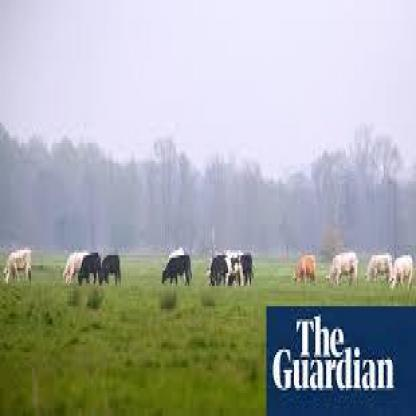cow: (328, 251, 360, 290), (160, 253, 193, 288), (2, 249, 32, 287), (62, 250, 91, 289), (206, 253, 238, 288), (364, 253, 394, 286), (77, 253, 103, 288), (97, 252, 122, 287), (292, 252, 316, 287), (390, 253, 414, 288), (233, 251, 254, 290)
